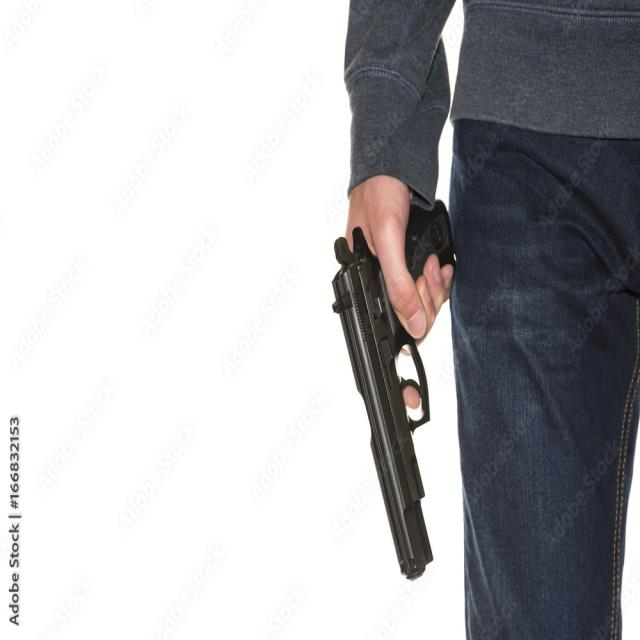HandGun: (332, 201, 454, 581)
